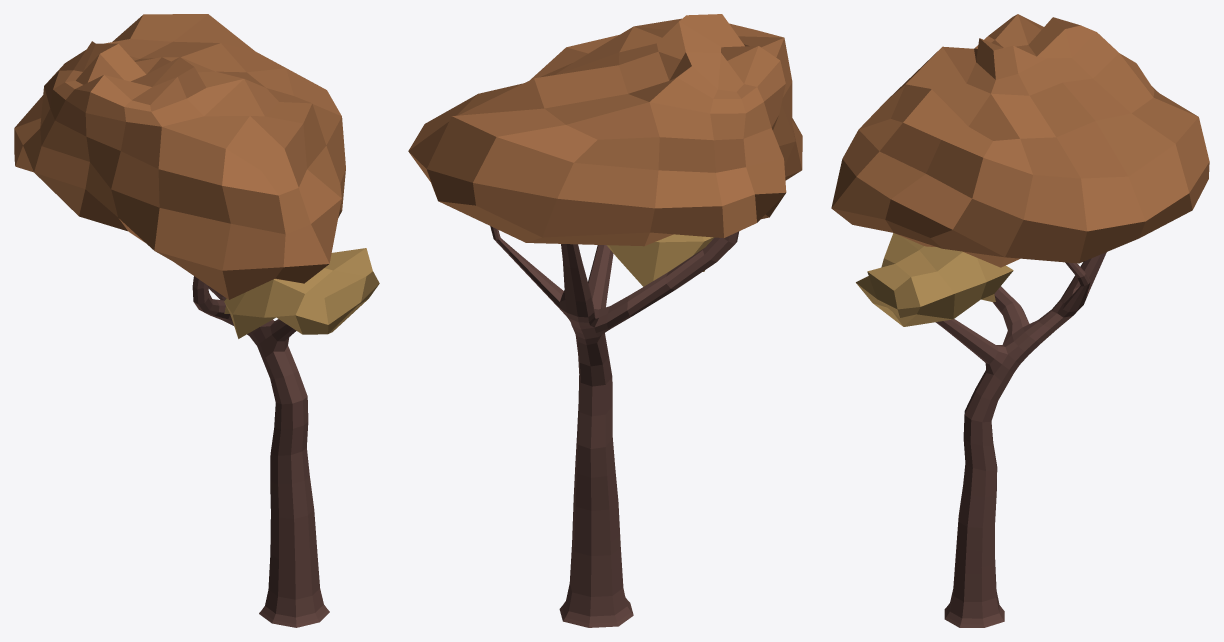
The model's file is autumn-4.glb.
The picture shows the model from 3 angles, left to right: view 1: azimuth 30°, elevation 25°; view 2: azimuth 150°, elevation 25°; view 3: azimuth 270°, elevation 25°; orthographic projection. The views are drawn at different scales.
Visible parts, largest first — view 1: CommonTree_Autumn_4; view 2: CommonTree_Autumn_4; view 3: CommonTree_Autumn_4.
Part boxes in pixels (x1=…): CommonTree_Autumn_4: x1=14, y1=14, x2=379, y2=627; CommonTree_Autumn_4: x1=408, y1=14, x2=802, y2=627; CommonTree_Autumn_4: x1=831, y1=14, x2=1209, y2=627.
Bounding box in the file's own units: 1.58 × 2.78 × 1.8.
